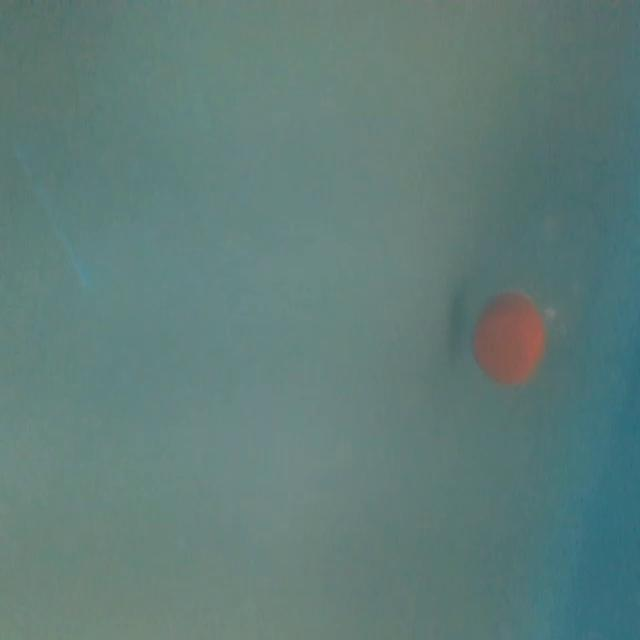plastic bottle: (462, 185, 628, 395)
